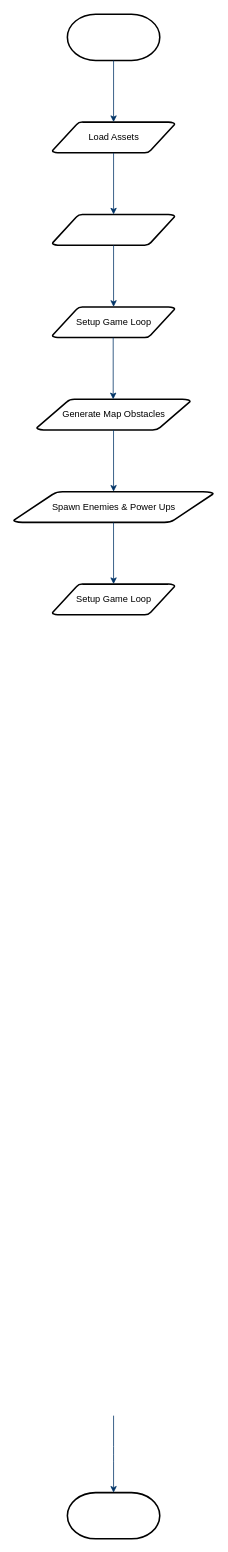
The diagram is 228 pixels wide and 1552 high, and some of its shapes have lost their labels. The shapes that lost their labels are listed below. From the top down, each one's centre as x and y in pixels, then its label:
(113,37): start
(113,229): Initialize Variables
(113,1515): end
